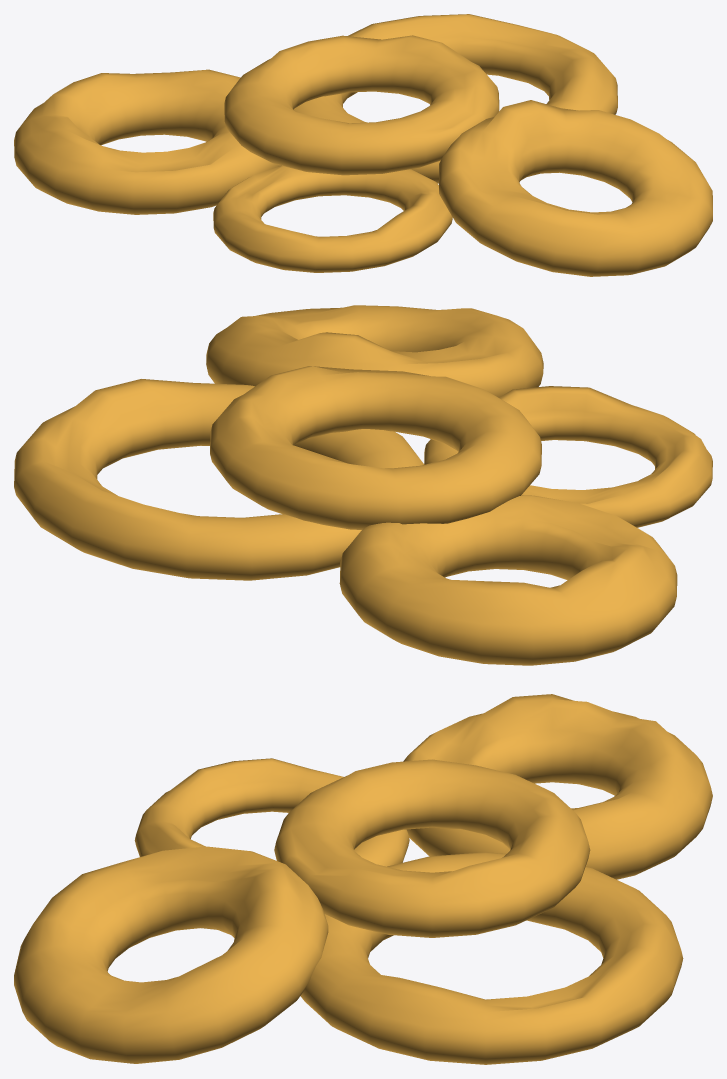
File: fried_calamari.fbx
The picture shows the model from 3 angles, top to bottom: view 1: azimuth 30°, elevation 25°; view 2: azimuth 150°, elevation 25°; view 3: azimuth 270°, elevation 25°; orthographic projection. The views are drawn at different scales.
Parts seen in each view (by area): view 1: pTorus7, pTorus4, pTorus5, pTorus6, pTorus1; view 2: pTorus5, pTorus4, pTorus1, pTorus7, pTorus6; view 3: pTorus7, pTorus4, pTorus1, pTorus5, pTorus6.
Part boxes in pixels (<box>): pTorus7: <box>439,100,712,276</box>; pTorus4: <box>224,35,499,175</box>; pTorus5: <box>14,69,281,214</box>; pTorus6: <box>213,166,452,272</box>; pTorus1: <box>293,14,617,183</box>; pTorus5: <box>339,495,677,665</box>; pTorus4: <box>210,366,541,529</box>; pTorus1: <box>14,379,424,580</box>; pTorus7: <box>206,305,543,397</box>; pTorus6: <box>424,386,712,527</box>; pTorus7: <box>14,846,328,1063</box>; pTorus4: <box>274,759,590,937</box>; pTorus1: <box>300,852,683,1064</box>; pTorus5: <box>403,694,712,879</box>; pTorus6: <box>134,758,409,866</box>.
Bounding box in the file's own units: 6.98 × 1.35 × 6.34.
